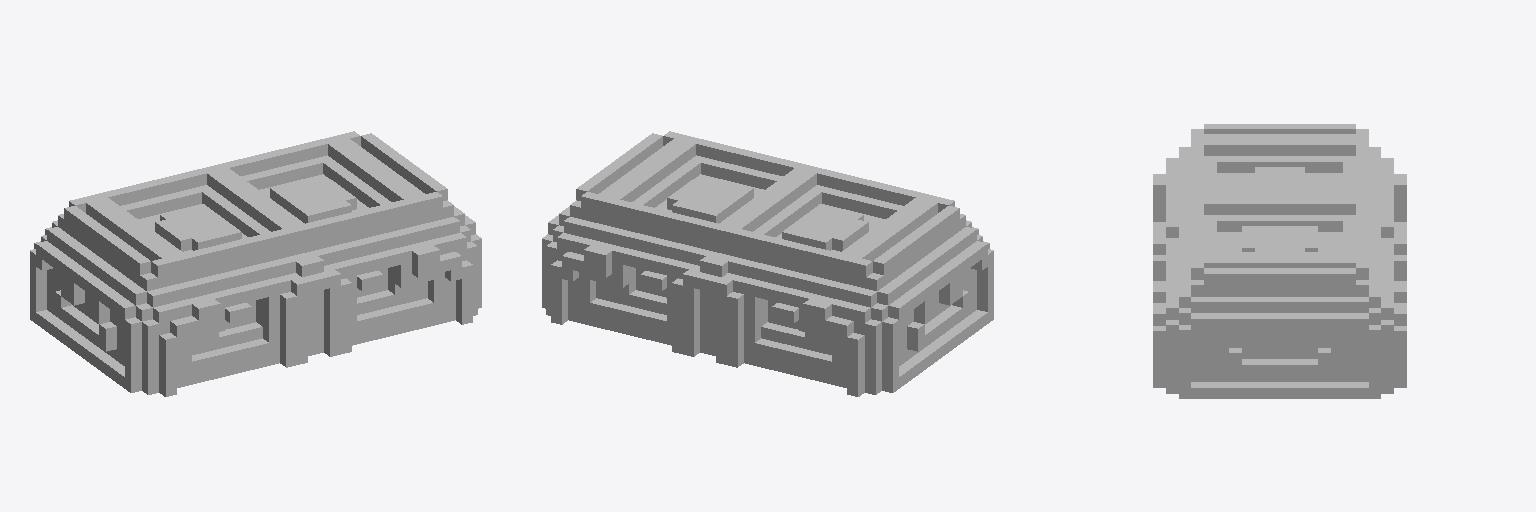
Rendered from caja.obj.
3 renders of one model, left to right at view 1: azimuth 30°, elevation 25°; view 2: azimuth 150°, elevation 25°; view 3: azimuth 270°, elevation 25°, orthographic.
Parts seen in each view (by area): view 1: object 1; view 2: object 1; view 3: object 1.
Boxes of the visible parts, x1=… form: object 1: x1=30, y1=131, x2=481, y2=396; object 1: x1=542, y1=131, x2=993, y2=396; object 1: x1=1153, y1=124, x2=1406, y2=398.
Bounding box in the file's own units: 3.2 × 1 × 2.